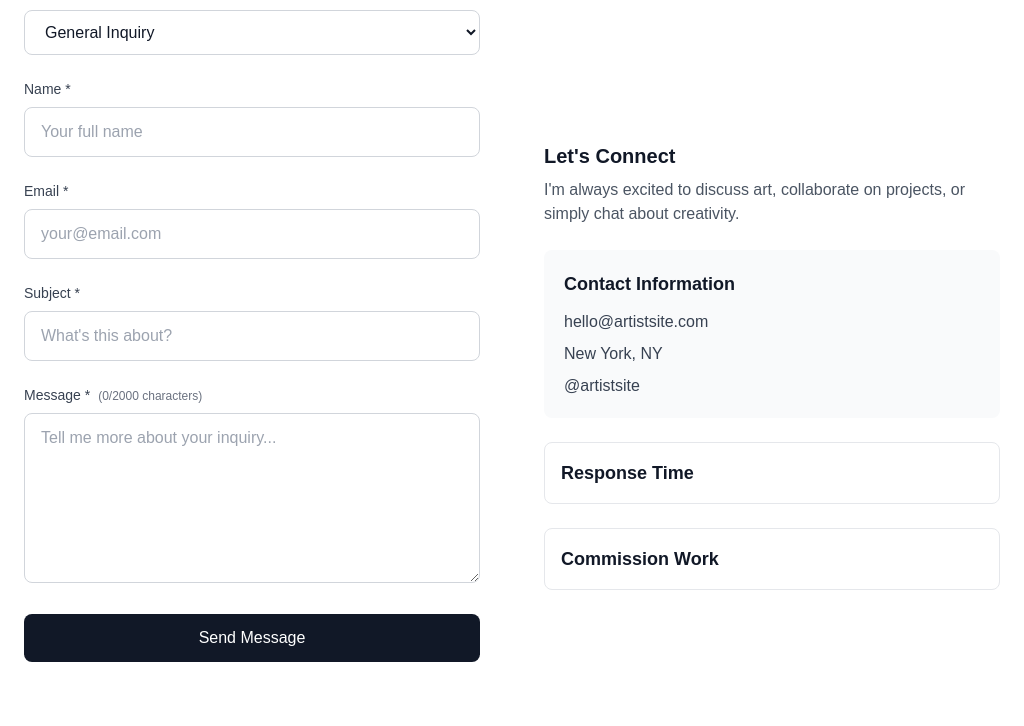
Contact Page › Form Validation › shows validation errors for empty required fields
The image size is (1024, 726).
(page scrolled)
Click the button "Send Message" at (252, 638), box 24,614 -> 480,662
(page scrolled)
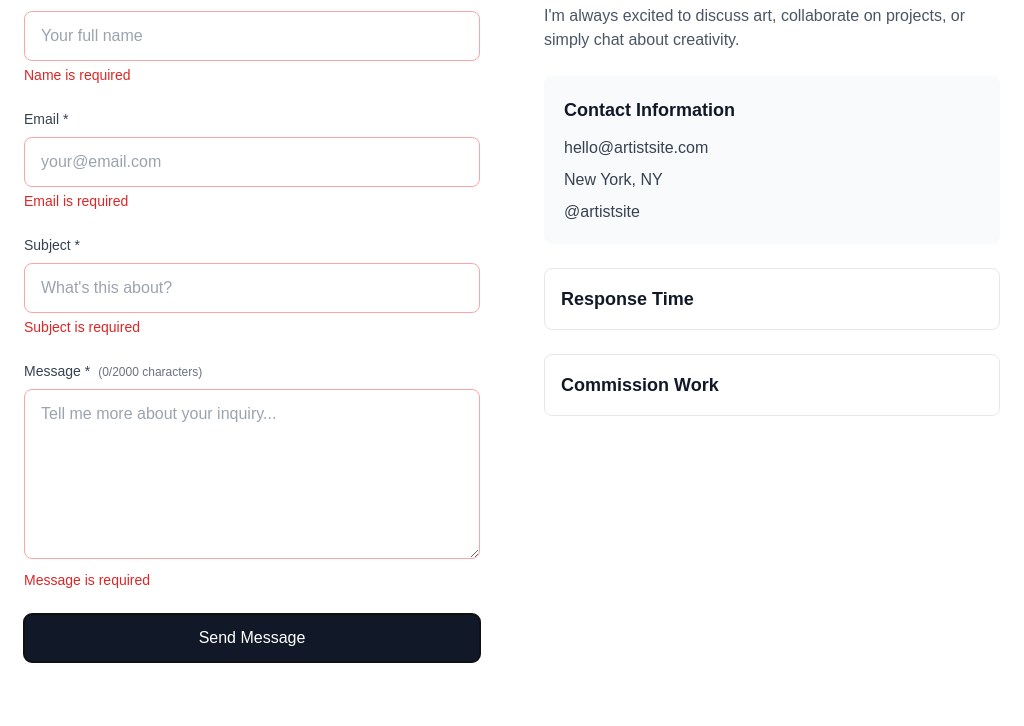
Result: the text "Name is required" is shown at 24,67 -> 131,83
Result: the text "Email is required" is shown at 24,193 -> 128,209
Result: the text "Subject is required" is shown at 24,319 -> 140,335
